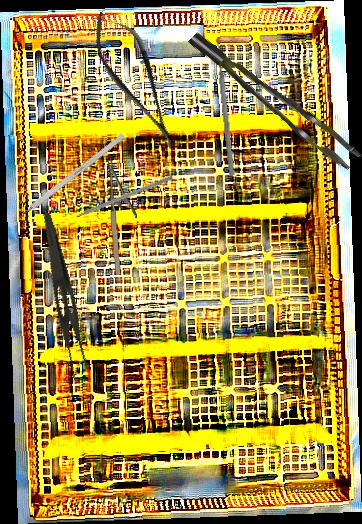Dressing Forceps: (24, 212, 98, 381)
Hook Surgical: (8, 133, 126, 227)
Micro Scissor: (80, 1, 192, 158)
Needle Holder: (107, 156, 140, 276)
Pusher: (61, 174, 173, 224), (213, 39, 237, 177)
Tissue Forceps: (188, 11, 362, 186)
